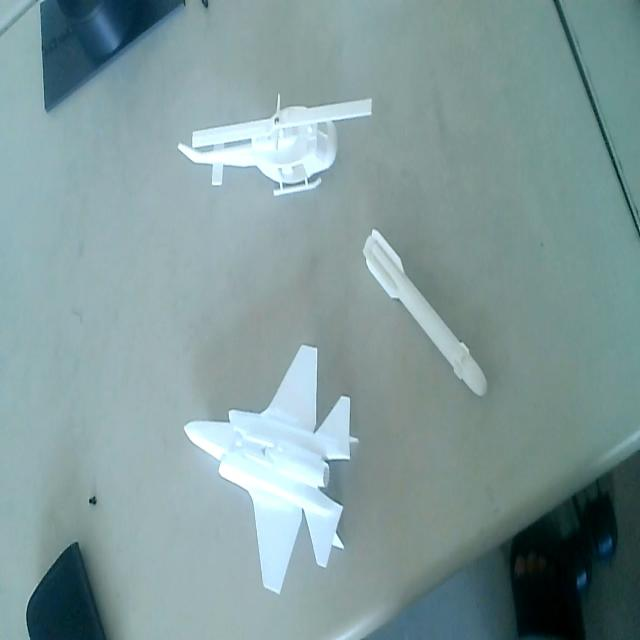Helicopter: (172, 102, 386, 200)
Jet: (183, 337, 360, 596)
Rocket: (361, 222, 491, 400)
